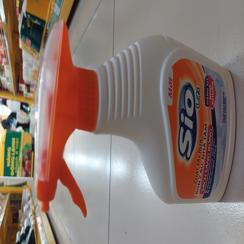sio: (32, 18, 237, 213)
